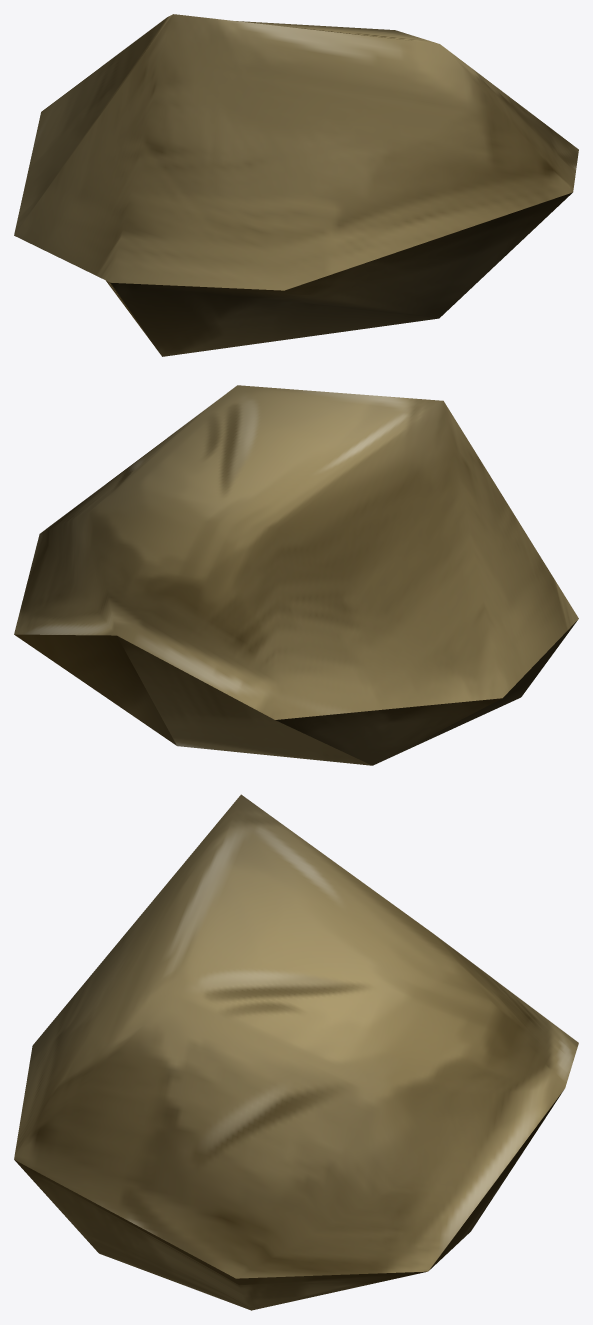
Rendered from prop_Rock2.FBX.
3 renders of one model, top to bottom at view 1: azimuth 30°, elevation 25°; view 2: azimuth 150°, elevation 25°; view 3: azimuth 270°, elevation 25°, orthographic. The views are drawn at different scales.
Visible parts, largest first — view 1: env_Rock2; view 2: env_Rock2; view 3: env_Rock2.
Boxes of the visible parts, bbox=[...] form: env_Rock2: bbox=[14, 14, 578, 356]; env_Rock2: bbox=[14, 385, 578, 765]; env_Rock2: bbox=[14, 794, 578, 1310].
Size of the model in its own units: 11.62 by 9.83 by 6.67.
1 material, 1 textured.
